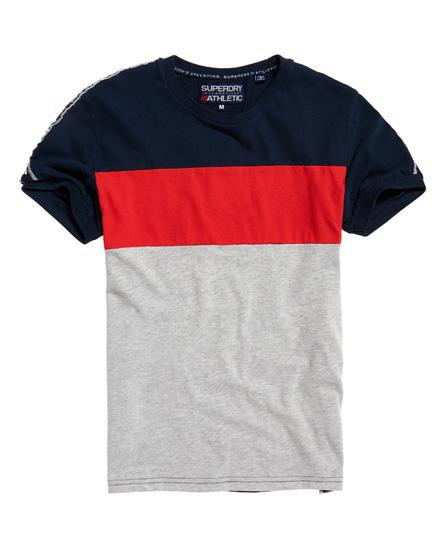teeshirt: (16, 47, 445, 516)
